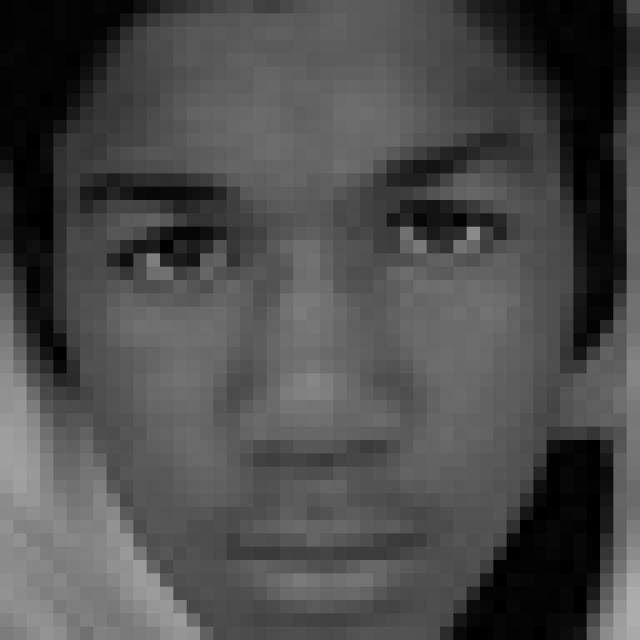neutral: (76, 123, 538, 622)
